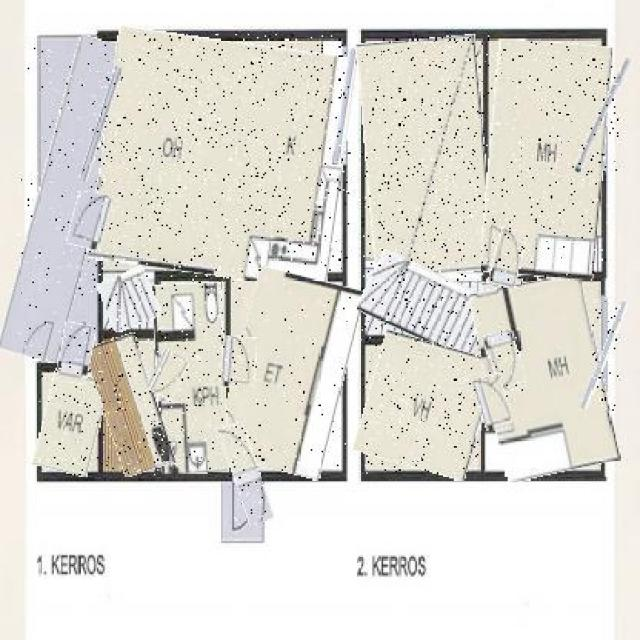door: (226, 423, 266, 525), (69, 194, 109, 252), (58, 323, 92, 383), (489, 331, 523, 391), (477, 374, 511, 431), (491, 228, 523, 288), (221, 337, 257, 388), (150, 352, 184, 398)
window: (586, 56, 619, 176), (88, 65, 114, 183), (592, 298, 618, 411), (337, 48, 351, 166)
zone: (95, 34, 351, 283), (17, 35, 118, 363), (362, 35, 489, 277), (484, 42, 608, 278), (480, 275, 612, 477), (224, 272, 354, 476), (360, 337, 491, 474), (155, 283, 228, 472), (362, 262, 492, 349), (94, 334, 166, 475), (39, 371, 103, 475), (101, 271, 157, 329), (486, 280, 528, 332)
